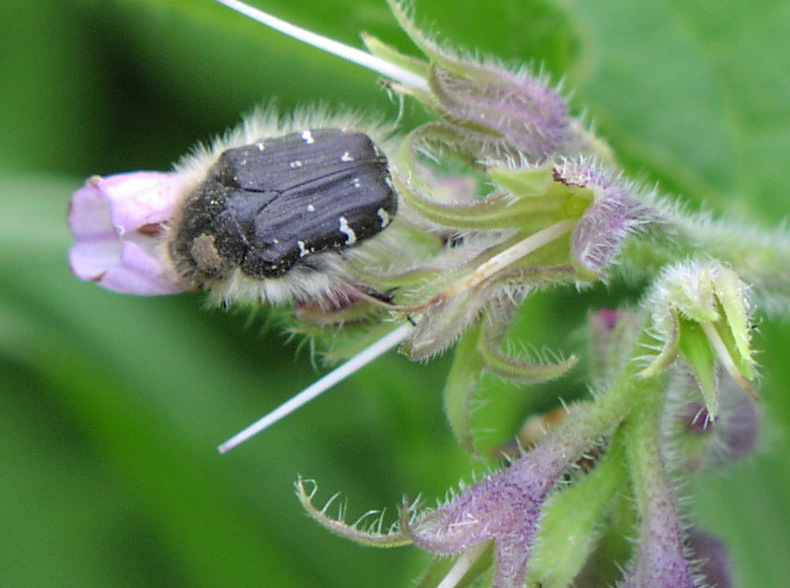Tropinota_hirta: (145, 92, 444, 316)
